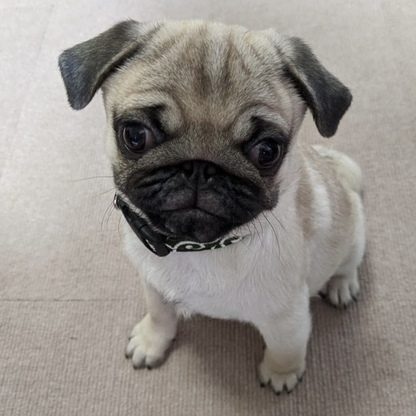Pug: (54, 13, 373, 398)
